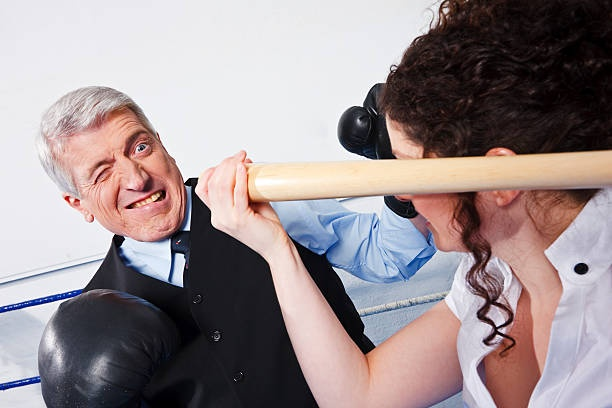bita: (232, 153, 612, 205)
